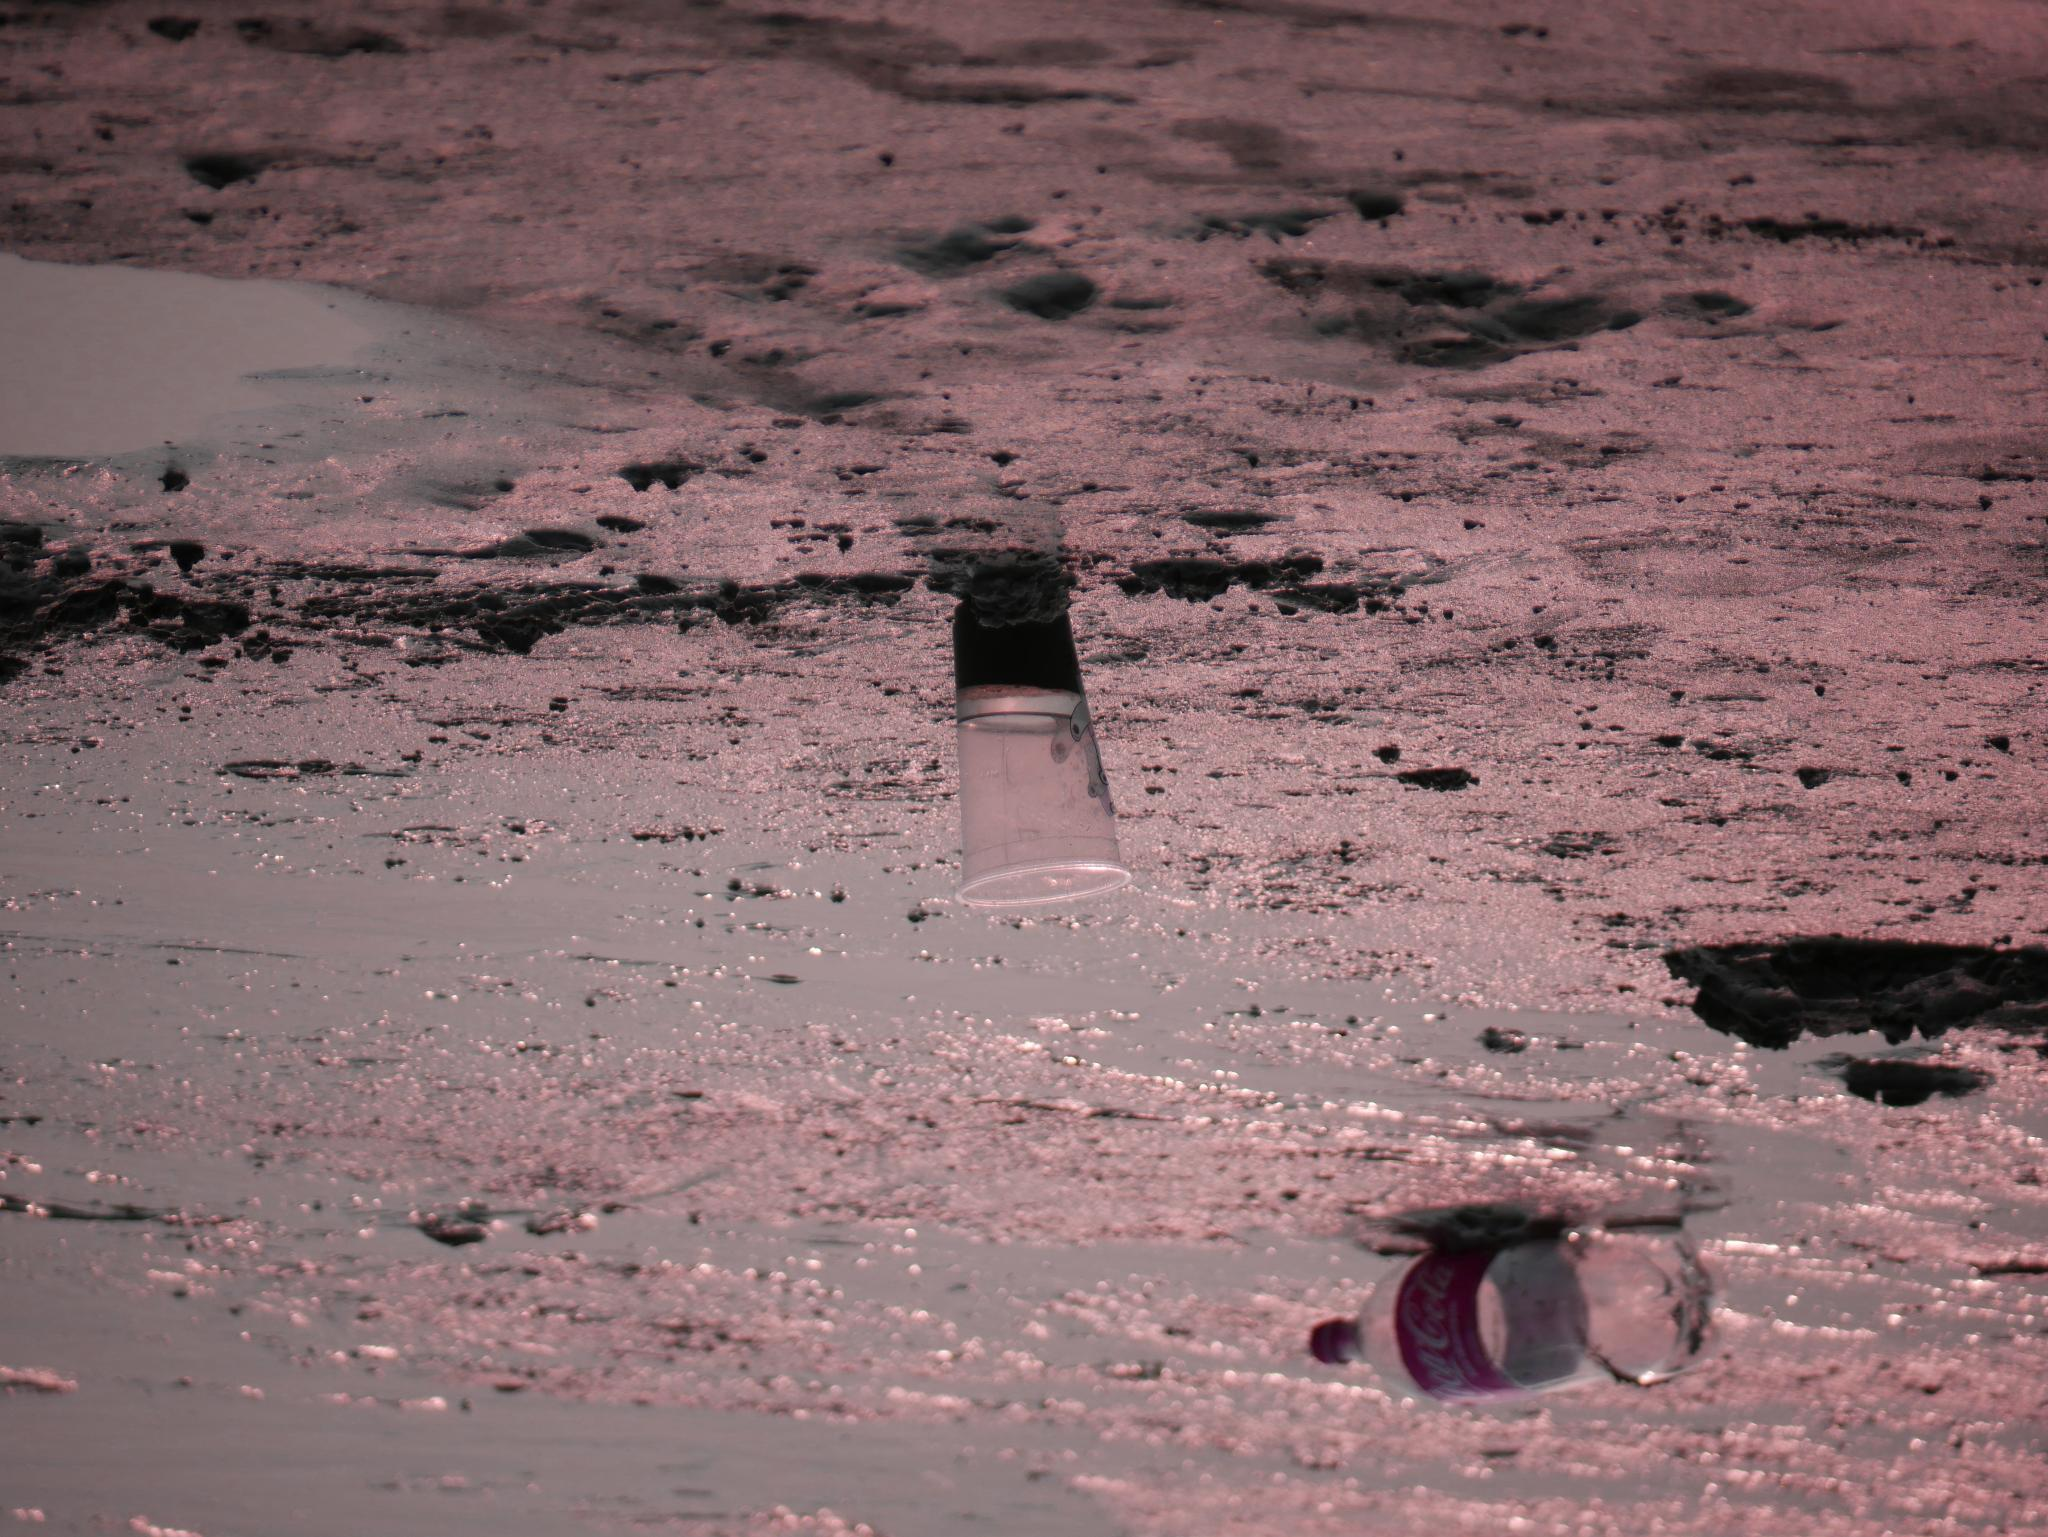Plastic: (1285, 1193, 1730, 1464)
